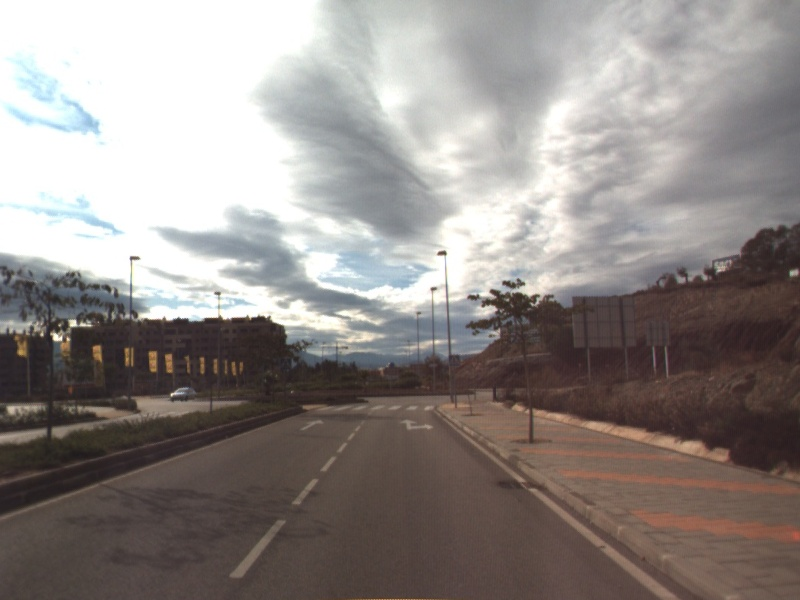STRAIGHT: (298, 418, 326, 432)
STRAIGHT_RIGHT: (398, 417, 436, 432)
